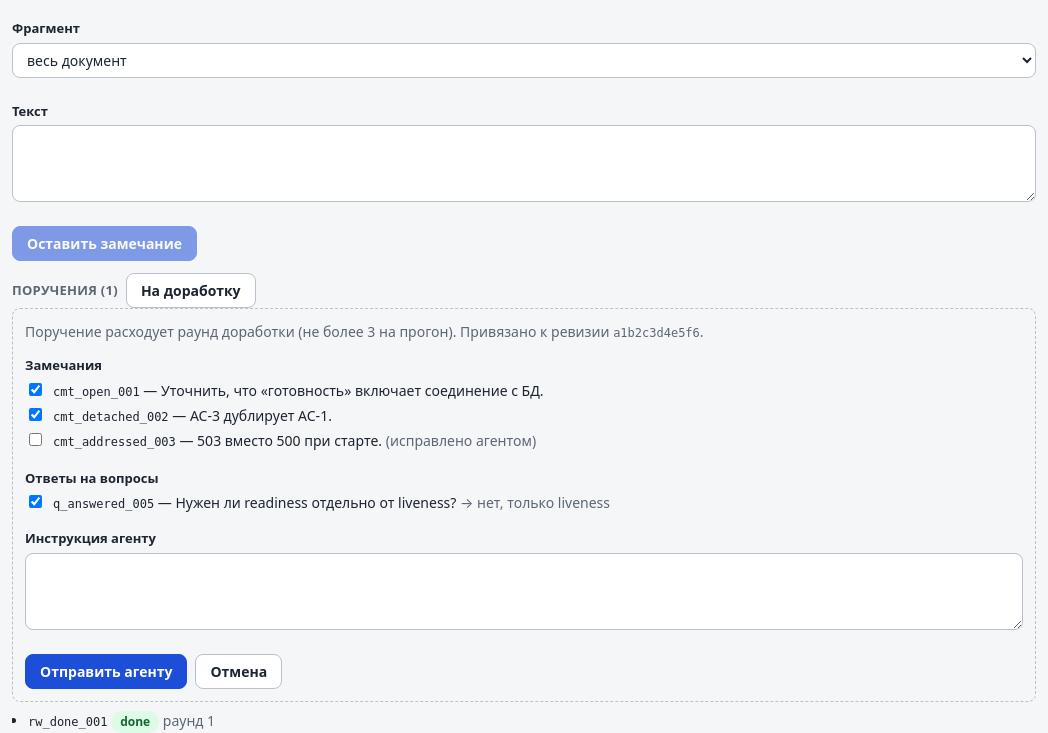
Test: ContextPanel (T088/T089, ADR-034) › shows the 409 detail when a round is already pending
The image size is (1048, 733).
(page scrolled)
Click the button with test id "rework-submit": (106, 671) [25,654,188,688]
(page scrolled)
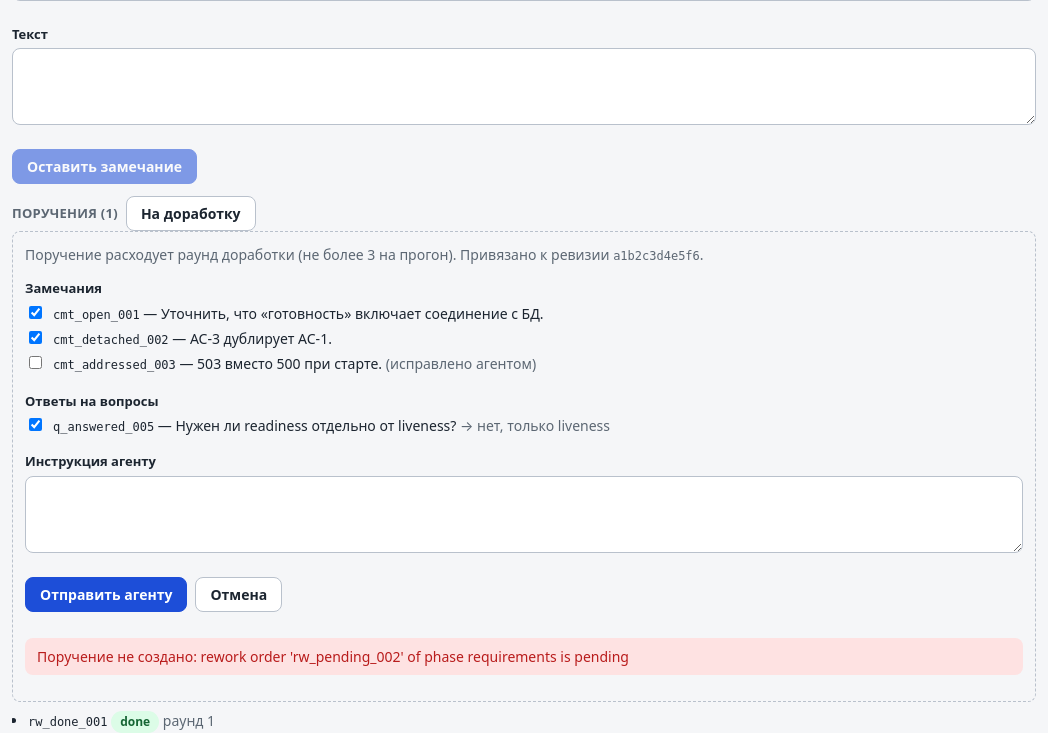
expect the text "rework order 'rw_pending_002' of phase requirements is pending" is shown: met, box [200,646,629,666]
